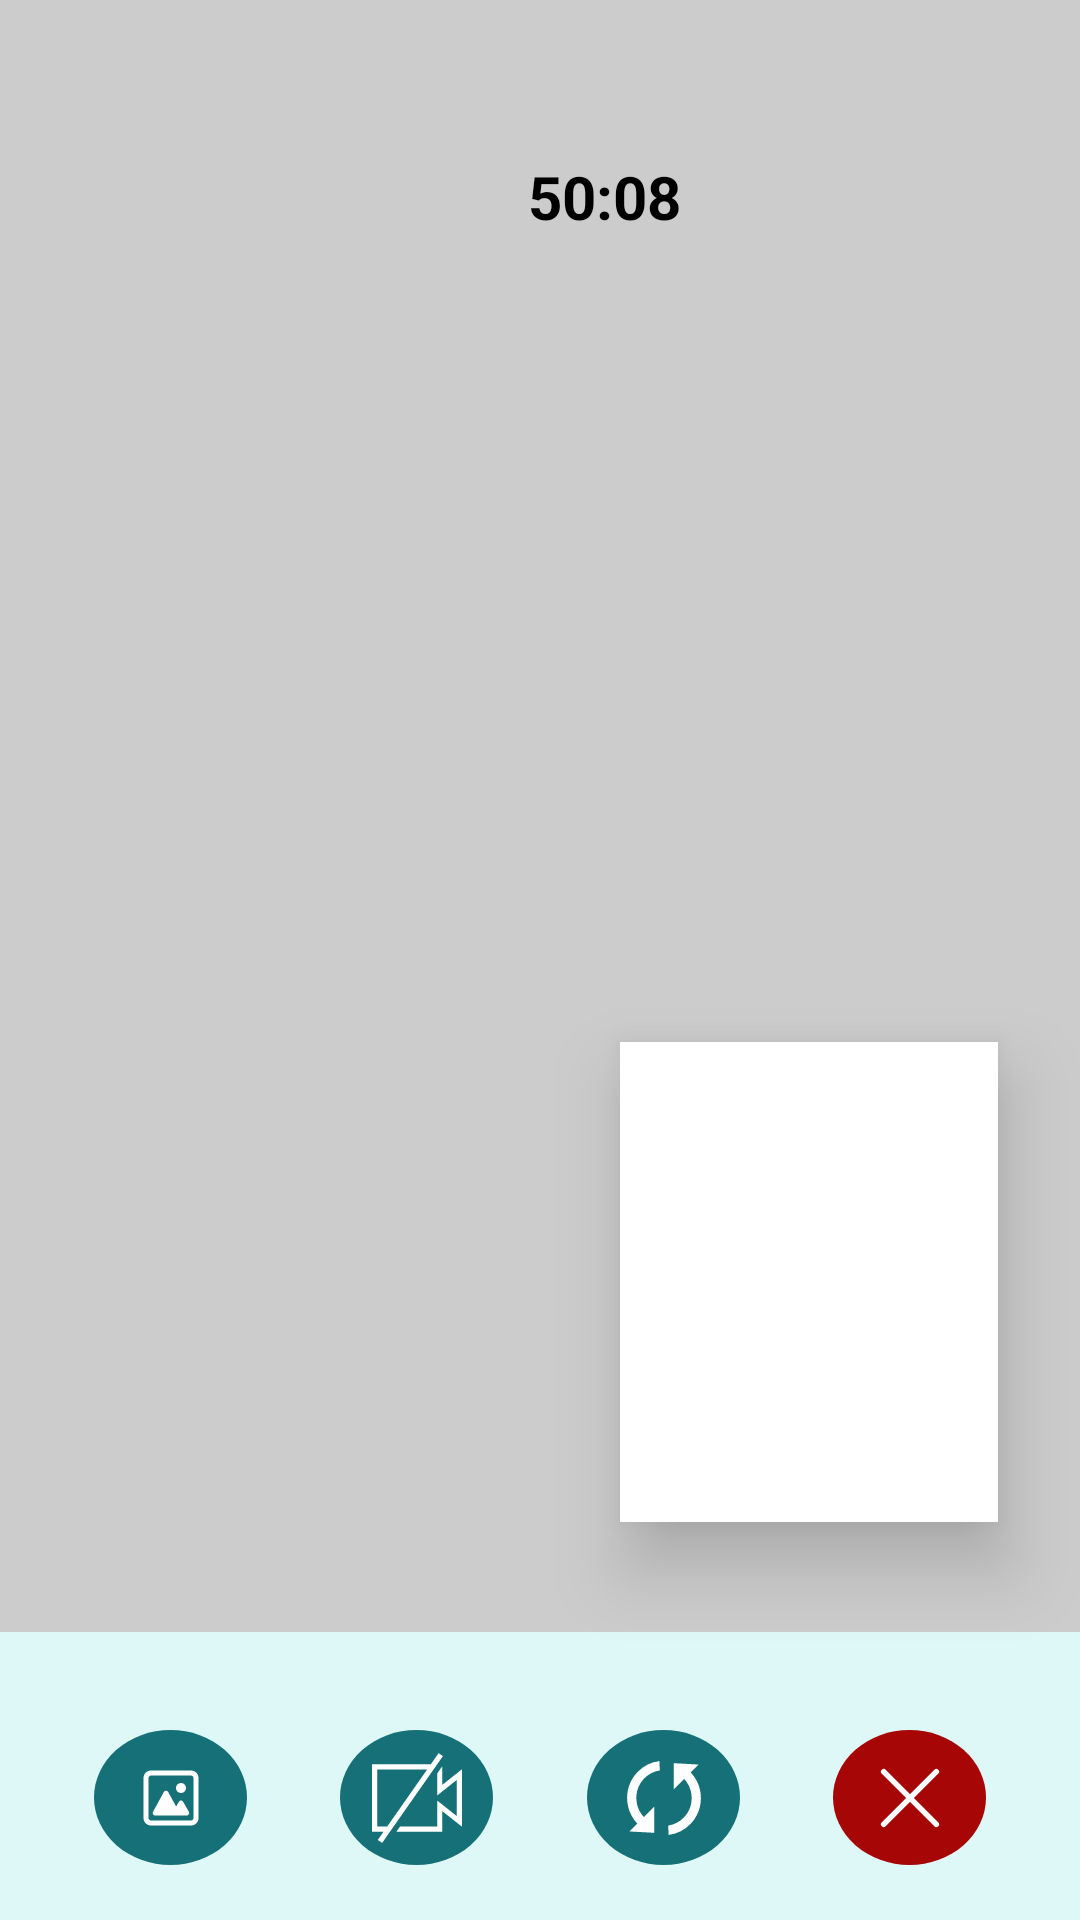

Locate icon controls on the screen. Image size 1080x1920, boxes as (x1, y1, x2, y2).
cross: (833, 1730, 986, 1865)
turn: (587, 1730, 740, 1865)
video camera off: (340, 1730, 493, 1865)
